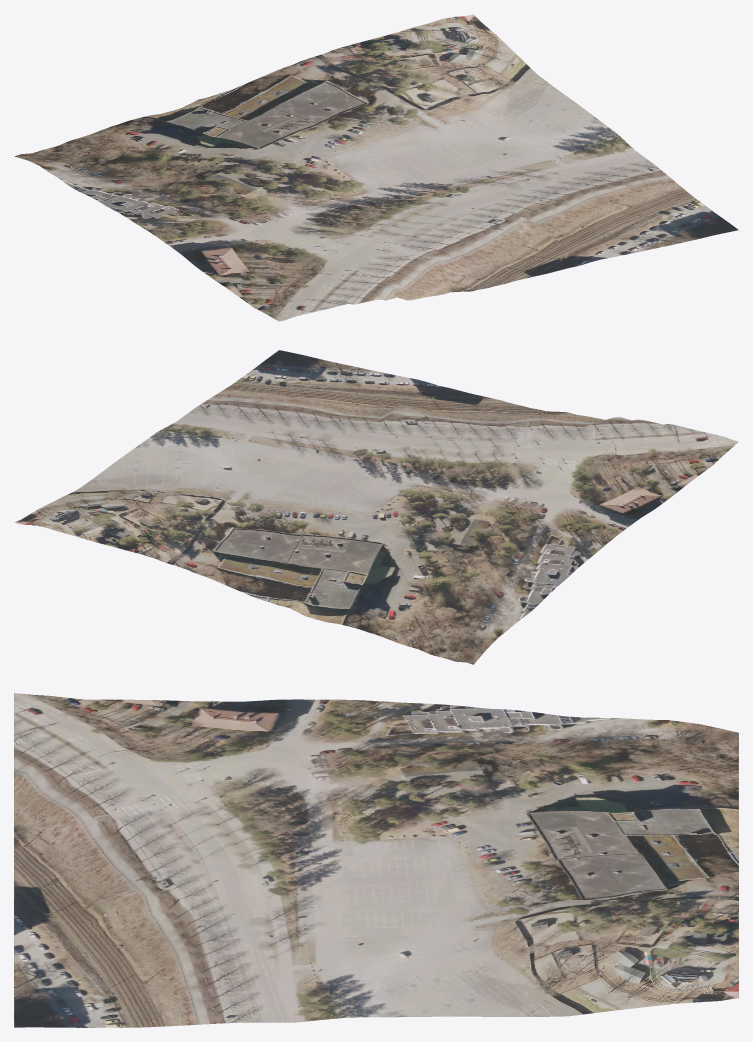
File: CM_Terrain_24485954_6821432.fbx
3 renders of one model, top to bottom at view 1: azimuth 30°, elevation 25°; view 2: azimuth 150°, elevation 25°; view 3: azimuth 270°, elevation 25°, orthographic. The views are drawn at different scales.
Visible parts, largest first — view 1: CM_Terrain_24485954_6821432_LOD0; view 2: CM_Terrain_24485954_6821432_LOD0; view 3: CM_Terrain_24485954_6821432_LOD0.
Part boxes in pixels (<box>): CM_Terrain_24485954_6821432_LOD0: <box>14,14,738,321</box>; CM_Terrain_24485954_6821432_LOD0: <box>14,350,738,664</box>; CM_Terrain_24485954_6821432_LOD0: <box>14,693,738,1027</box>.
Size of what is drawn, in the model's own units: 205 by 14.53 by 205.
